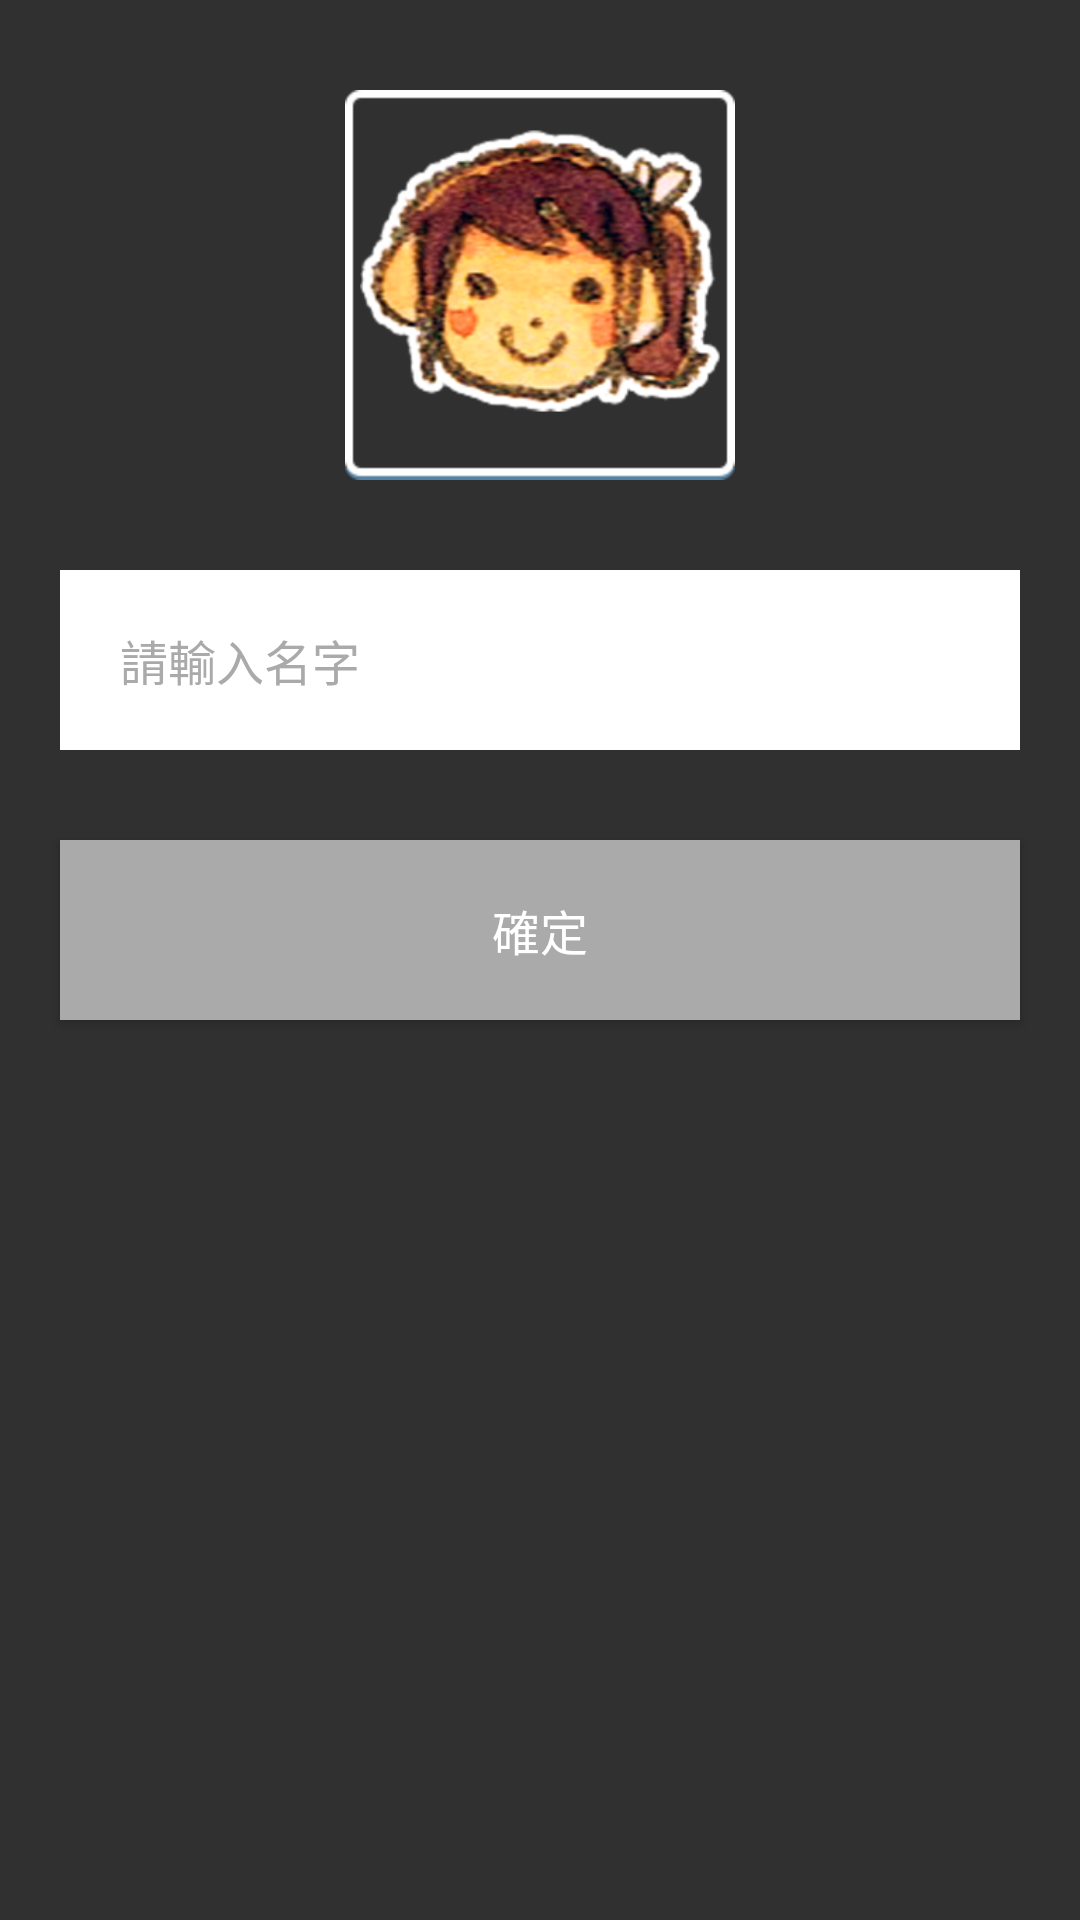

Screen size 1080 × 1920. Icon name, then its center in pixels as (x,y):
user: (540,271)
